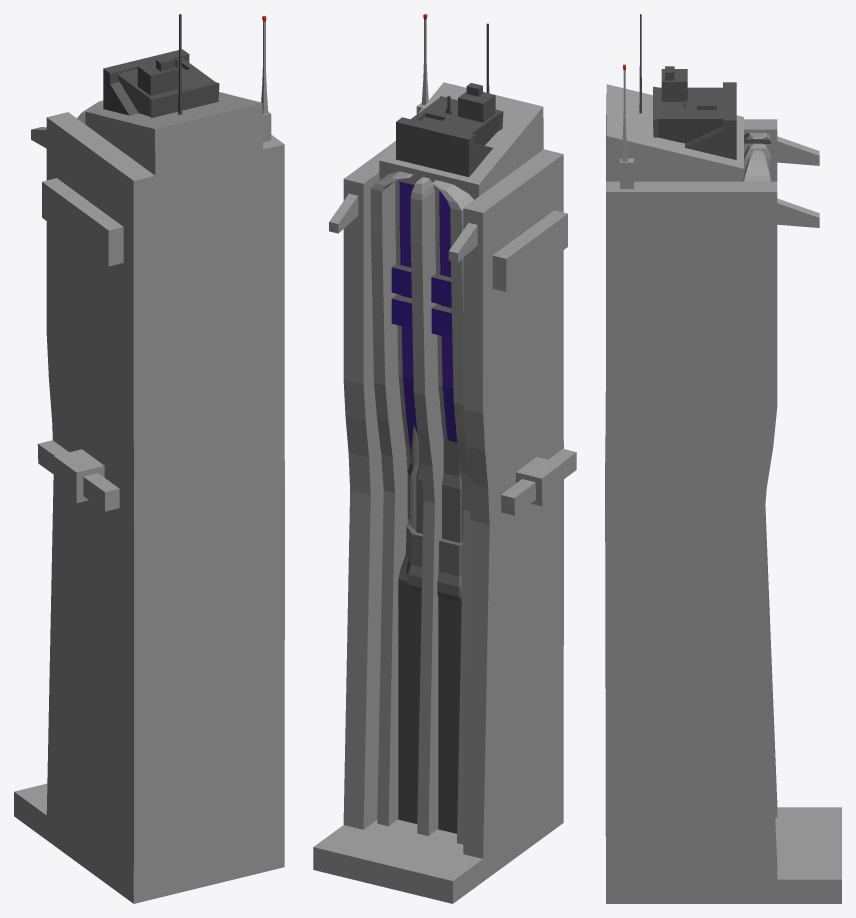
The model's file is CyberpunkBuildings1.glb.
The picture shows the model from 3 angles, left to right: view 1: azimuth 30°, elevation 25°; view 2: azimuth 150°, elevation 25°; view 3: azimuth 270°, elevation 25°; orthographic projection. The views are drawn at different scales.
Visible parts, largest first — view 1: Building02, Building04; view 2: Building02, Building04, Building03; view 3: Building02, Building04.
Boxes of the visible parts, x1,y1,x2,y2 form: Building02: (14, 16, 284, 903); Building04: (103, 14, 219, 117); Building02: (313, 14, 576, 903); Building04: (391, 23, 503, 833); Building03: (405, 425, 463, 602); Building02: (605, 64, 841, 903); Building04: (639, 14, 736, 159).
Size of the model in its own units: 15.17 by 69.75 by 17.65.
1 material, 1 textured.
